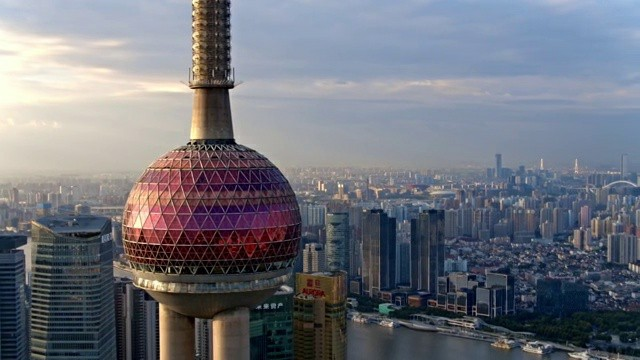Oriental: (122, 1, 301, 360)
